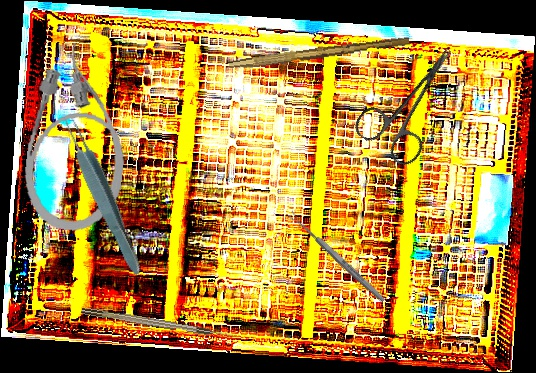Cannula: (18, 39, 138, 236)
Hook Surgical: (80, 305, 238, 342)
Iris Scissors: (350, 30, 480, 171)
Scalpel Handle: (228, 32, 410, 75)
Surgical Spoon: (287, 210, 387, 304)
Tissue Forceps: (57, 110, 149, 279)
